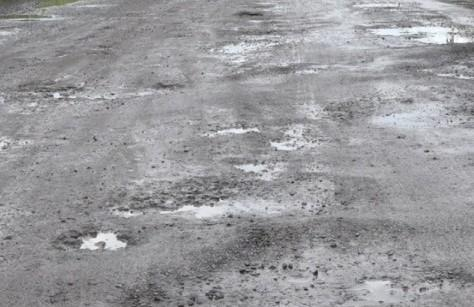pothole: (54, 227, 133, 256), (367, 26, 474, 46), (209, 32, 288, 53), (212, 122, 265, 139), (231, 157, 273, 176)
